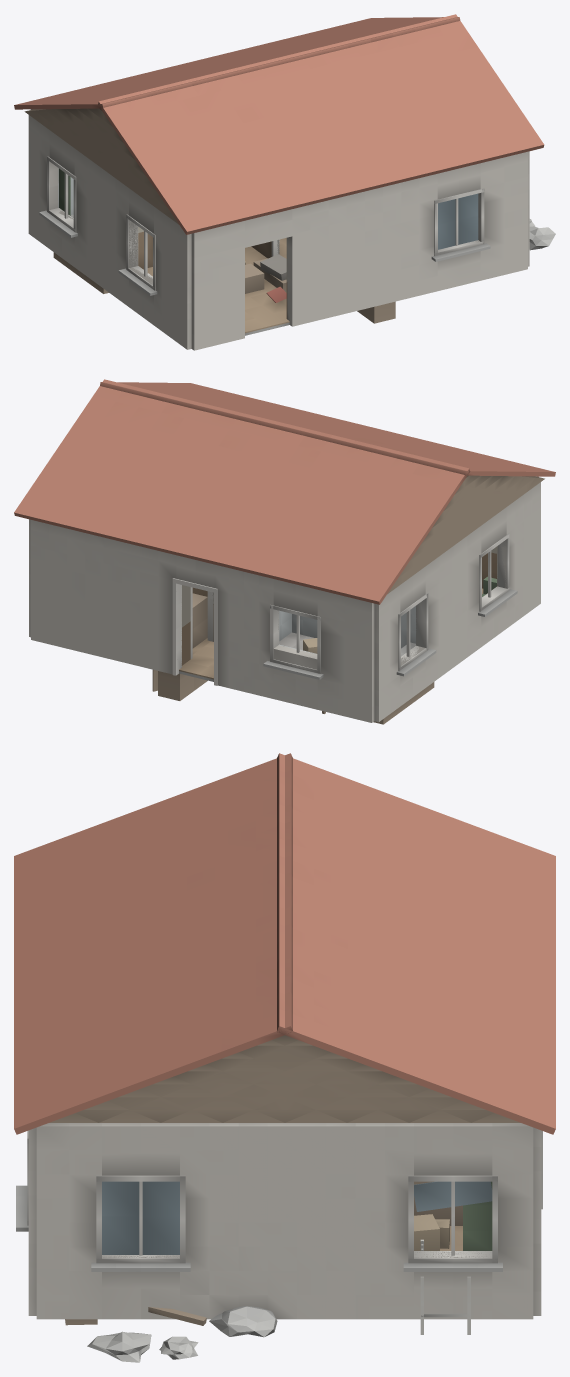
The model's file is casa_r9.glb.
3 views of the same model, one above another, from view 1: azimuth 30°, elevation 25°; view 2: azimuth 150°, elevation 25°; view 3: azimuth 270°, elevation 25° (orthographic). The views are drawn at different scales.
Parts seen in each view (by area): view 1: telhado, ext_frente, ext_esq, acabamento, telhado_oitao0, tv_sala, guarda_roupa_quarto1, entulho_fora, mesa_centro_sala; view 2: telhado, ext_fundo, ext_esq, acabamento, telhado_oitao0, guarda_roupa_quarto2, balcao_cozinha0; view 3: telhado, ext_dir, telhado_oitao2, acabamento, entulho_fora, ext_frente, ext_fundo, bag_quarto2_caixa1, berco_quarto20.
Boxes of the visible parts, box(x1,y1,x2,y2) form: telhado: box(14, 14, 544, 234); ext_frente: box(191, 151, 527, 350); ext_esq: box(28, 115, 191, 349); acabamento: box(39, 156, 490, 333); telhado_oitao0: box(24, 108, 178, 224); tv_sala: box(253, 254, 286, 291); guarda_roupa_quarto1: box(357, 301, 395, 323); entulho_fora: box(529, 219, 555, 250); mesa_centro_sala: box(245, 263, 264, 293); telhado: box(14, 379, 555, 604); ext_fundo: box(31, 520, 374, 722); ext_esq: box(374, 482, 540, 722); acabamento: box(172, 533, 517, 685); telhado_oitao0: box(387, 475, 544, 594); guarda_roupa_quarto2: box(152, 593, 207, 700); balcao_cozinha0: box(373, 642, 434, 724); telhado: box(14, 753, 555, 1134); ext_dir: box(36, 1123, 533, 1319); telhado_oitao2: box(49, 1035, 520, 1122); acabamento: box(16, 1130, 542, 1271); entulho_fora: box(87, 1306, 277, 1362); ext_frente: box(28, 1127, 36, 1315); ext_fundo: box(533, 1127, 541, 1315); bag_quarto2_caixa1: box(414, 1214, 439, 1250); berco_quarto20: box(420, 1239, 470, 1334).
Size of what is drawn, in the model's own units: 10.16 by 5.59 by 7.64.
